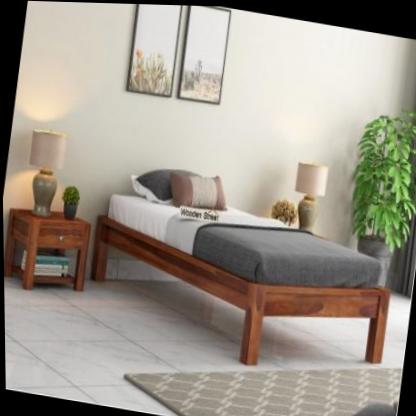Bed: (79, 150, 401, 382)
Carpet: (123, 363, 400, 416)
Ceramic floor: (3, 277, 225, 396)
Frame: (170, 4, 234, 107), (122, 3, 182, 98)
Lamp: (19, 124, 67, 219), (287, 156, 331, 238)
Nightstand: (2, 203, 93, 296)
